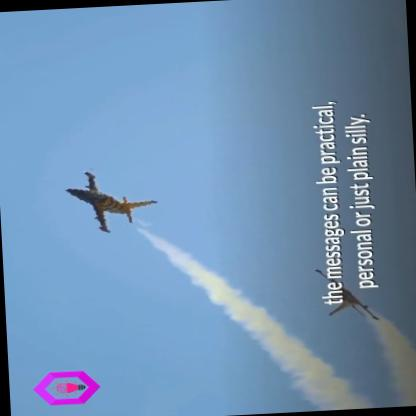plane: (56, 151, 168, 239)
